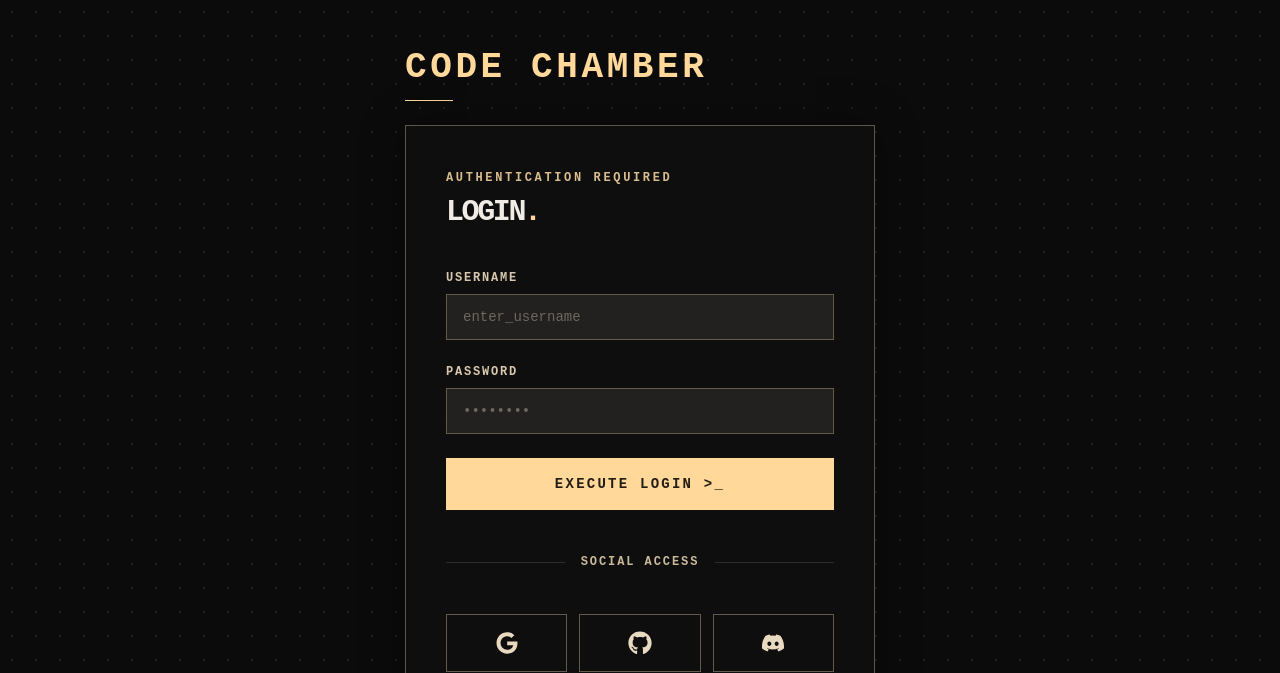
it: Login - manual submit › shows the server error message when signIn.username returns an error
In the field with placeholder "enter_username": point(640, 317) [446,294,834,340], type "alice"
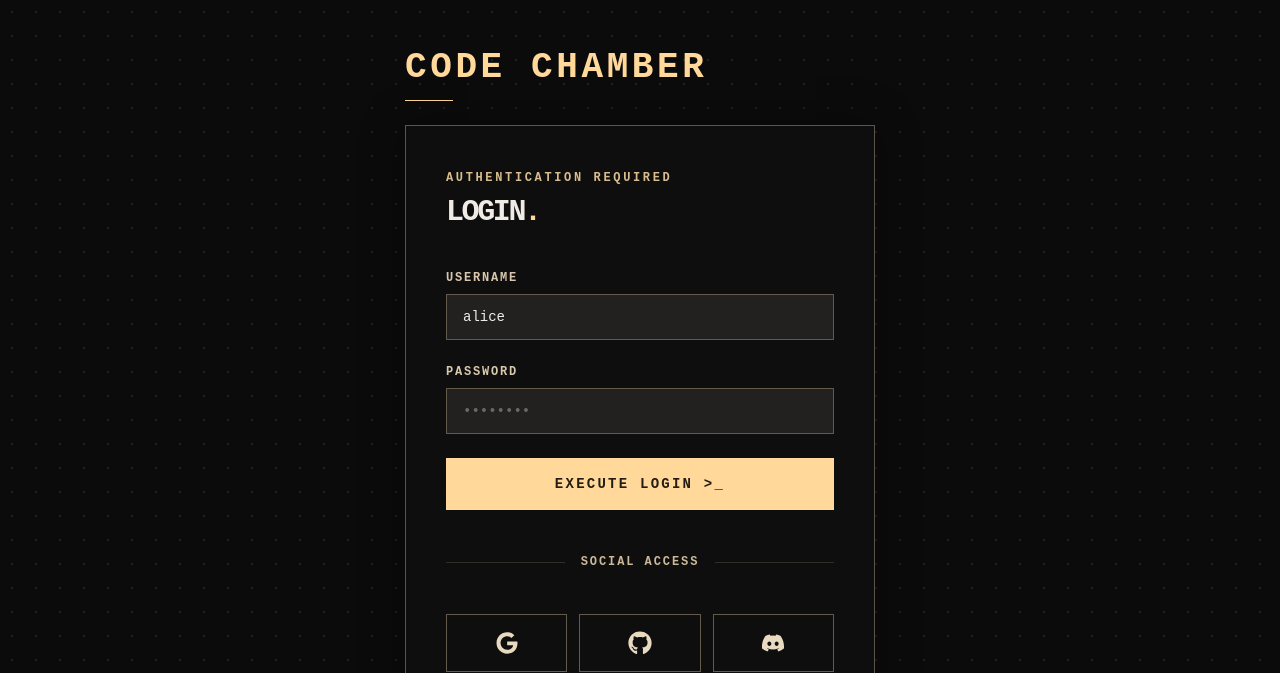
In the password field with placeholder "••••••••": point(640, 411) [446,388,834,434], type "wrongpass"
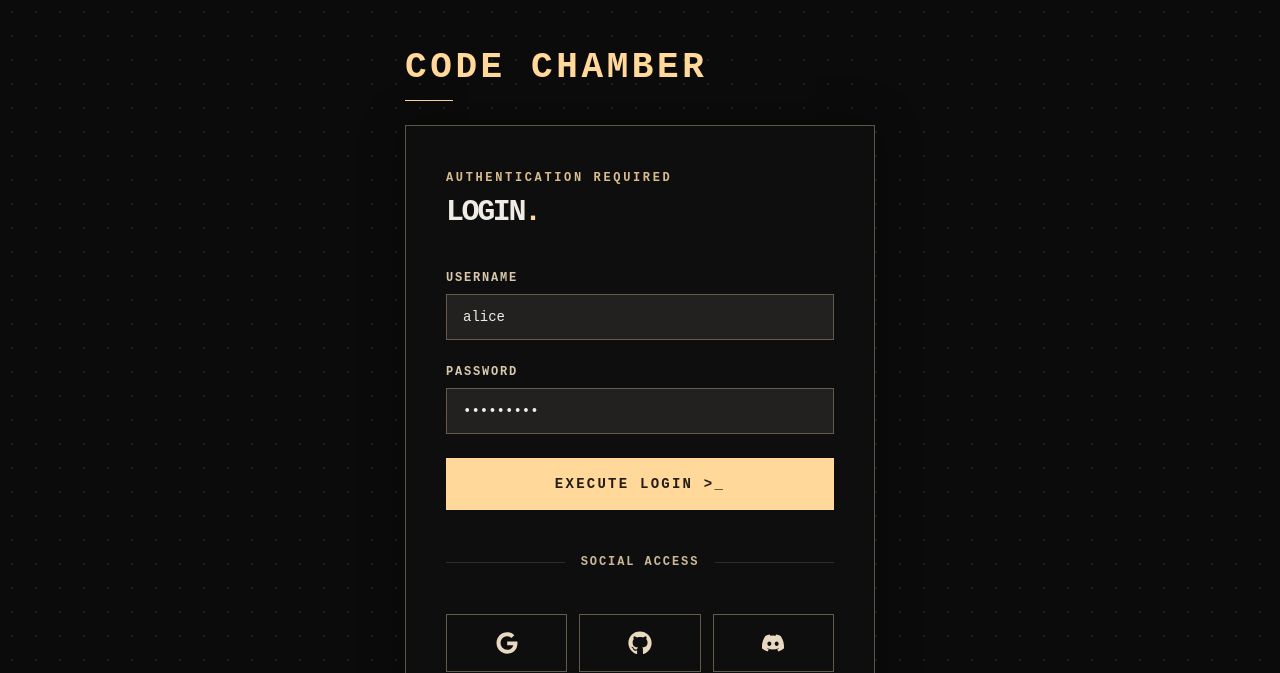
Click the button "EXECUTE LOGIN >_": point(640, 484) [446,458,834,510]
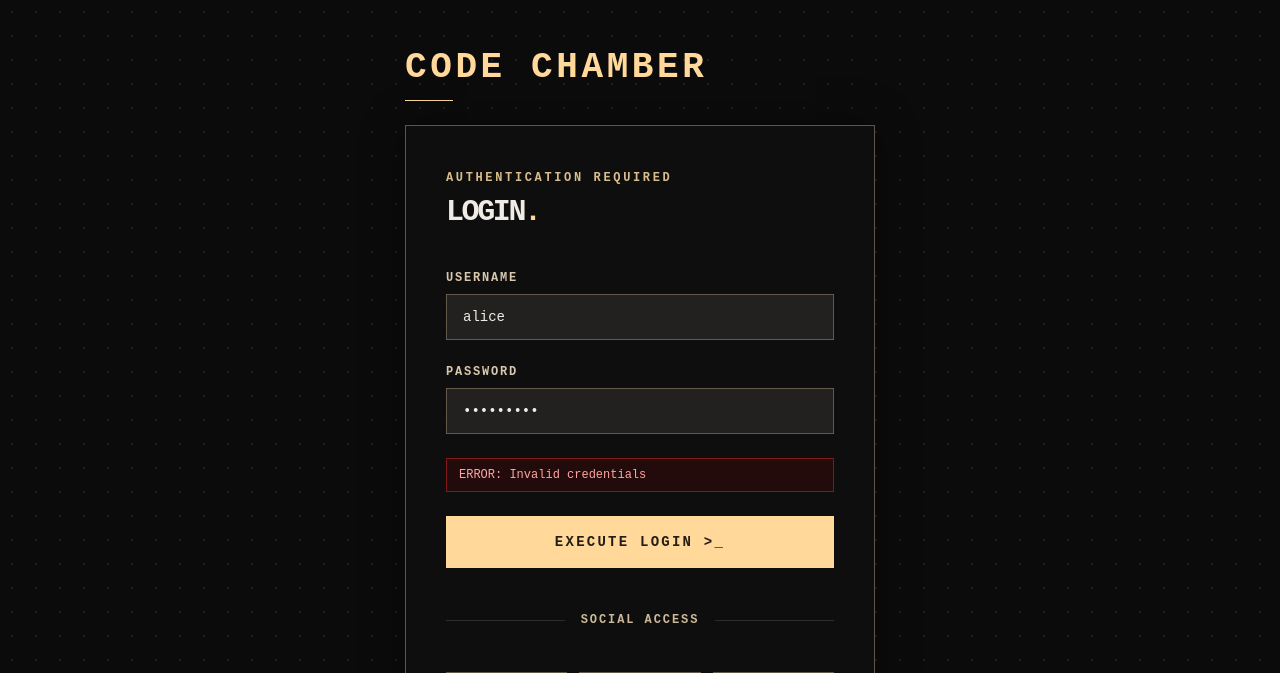
Expected: the button "EXECUTE LOGIN >_" is enabled, [446,516,834,568]
Result: the text "ERROR: Invalid credentials" is shown at [446,458,834,492]
